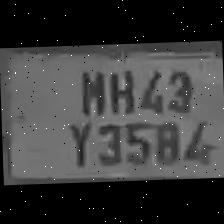3: (158, 61, 194, 112), (90, 116, 124, 166)
4: (178, 113, 214, 166), (132, 62, 166, 113)
5: (118, 114, 152, 164)
8: (148, 114, 180, 164)
H: (104, 63, 136, 114)
M: (74, 62, 106, 113)
Y: (60, 112, 92, 166)
